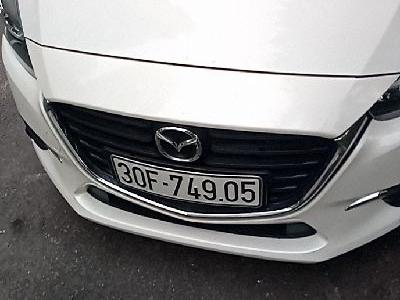car: (110, 155, 264, 210)
